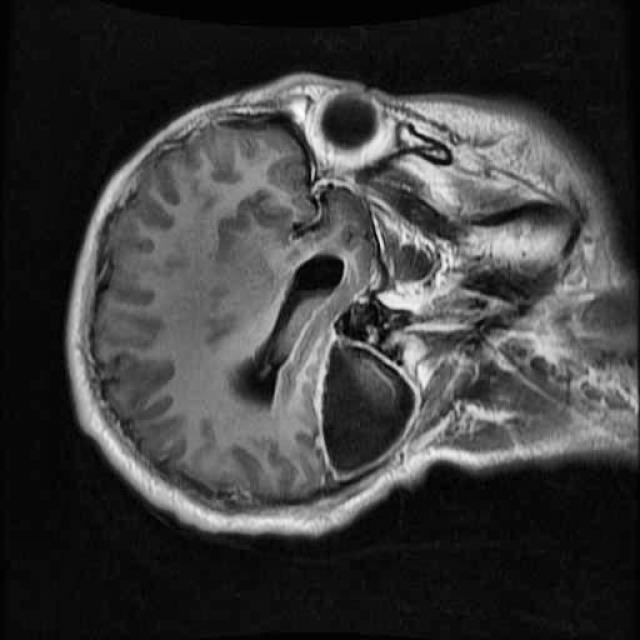Tumor: (299, 314, 426, 495)
